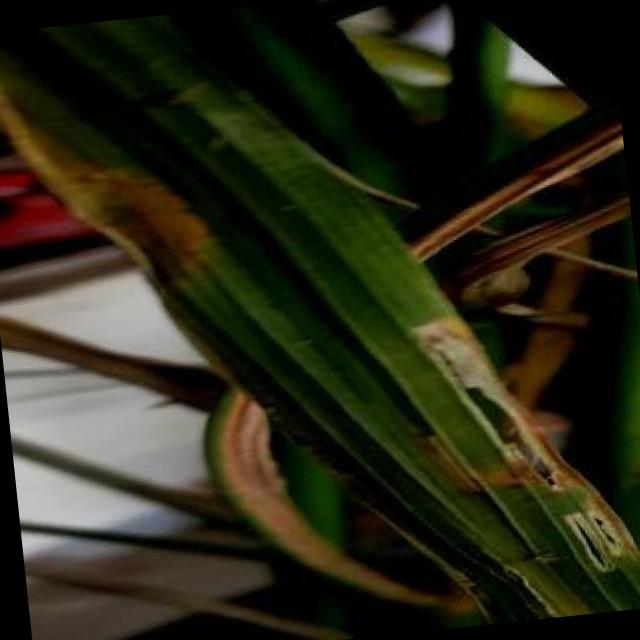Rice_Bacterial_Blight: (12, 0, 365, 403)
